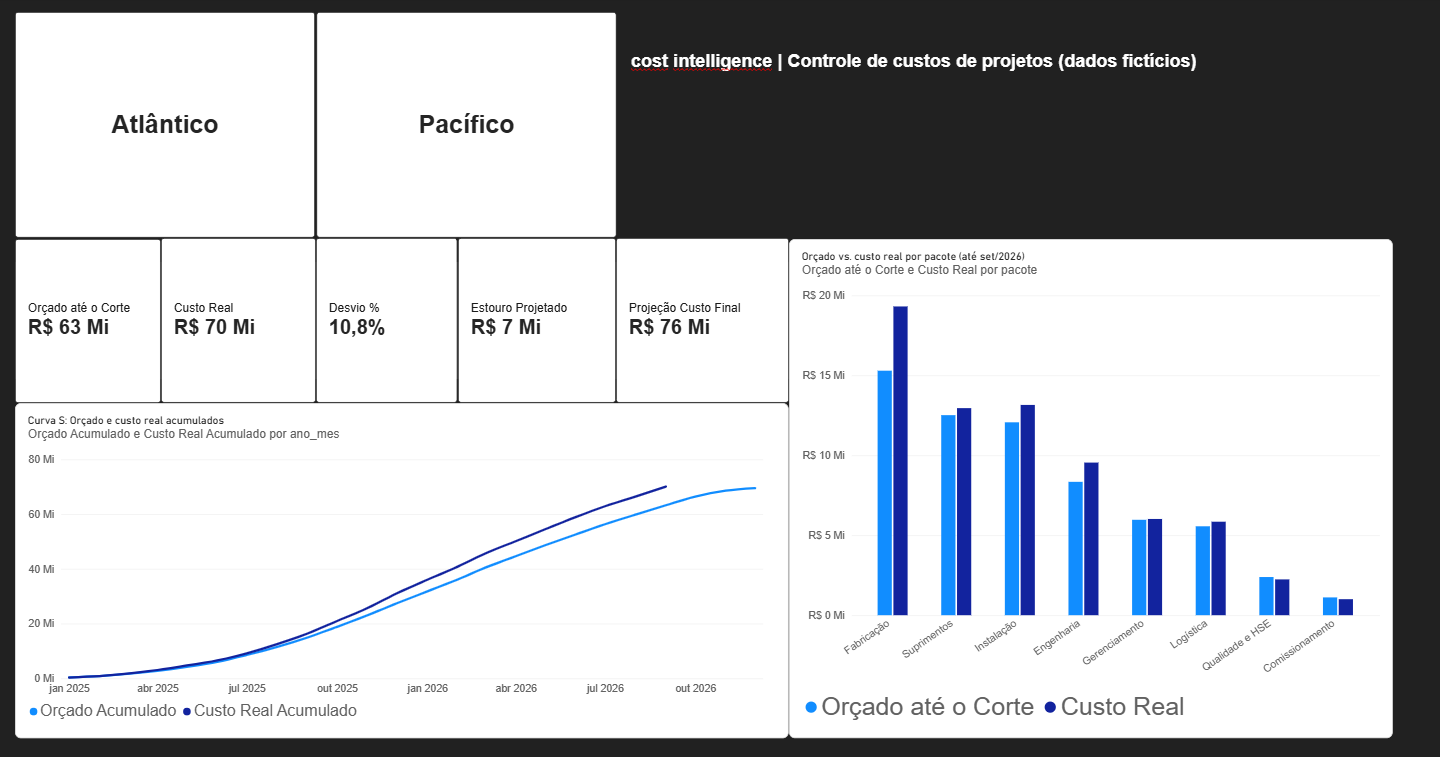

The page's visual inventory and layout, read from the dashboard file:
{"tool":"powerbi","page":{"name":"Visão geral","canvas":[1920,1080],"ordinal":1},"visuals":[{"type":"advancedSlicerVisual","fields":{"Values":["dim_projetos.projeto"]},"box":[20,20,800,300],"z":0},{"type":"cardVisual","fields":{"Data":["_Medidas.Orçado até o Corte"]},"box":[20,321.9,194.2,218.1],"z":1000},{"type":"cardVisual","fields":{"Data":["_Medidas.Custo Real"]},"box":[214.1,320.5,206.2,219.5],"z":2000},{"type":"cardVisual","fields":{"Data":["_Medidas.Desvio %"]},"box":[420.3,320.5,188.9,219.5],"z":3000},{"type":"cardVisual","fields":{"Data":["_Medidas.Projeção Custo Final"]},"box":[819.3,320.5,230.1,219.5],"z":4000},{"type":"cardVisual","fields":{"Data":["_Medidas.Estouro Projetado"]},"box":[609.2,320.5,210.1,219.5],"z":5000},{"type":"clusteredColumnChart","title":"Orçado vs. custo real por pacote (até set/2026)","fields":{"Category":["dim_pacotes.pacote"],"Y":["_Medidas.Orçado até o Corte","_Medidas.Custo Real"]},"box":[1049.4,321.9,803.3,663.7],"z":6000},{"type":"lineChart","title":"Curva S: Orçado e custo real acumulados","fields":{"Category":["dim_calendario.ano_mes"],"Y":["_Medidas.Orçado Acumulado","_Medidas.Custo Real Acumulado"]},"box":[20,540,1029.5,445.6],"z":7000},{"type":"textbox","box":[839.3,20,1012.2,150.3],"z":7001}]}

Visuals, with their boxes on the page's 1920x1080 design canvas (x1, y1, x2, y2). These are canvas units, not pixel positions in the 1440x757 screenshot, which may show the page scaled, cropped or inside an application window:
advancedSlicerVisual - dim_projetos.projeto: locate(20, 20, 820, 320)
cardVisual - _Medidas.Orçado até o Corte: locate(20, 322, 214, 540)
cardVisual - _Medidas.Custo Real: locate(214, 320, 420, 540)
cardVisual - _Medidas.Desvio %: locate(420, 320, 609, 540)
cardVisual - _Medidas.Projeção Custo Final: locate(819, 320, 1049, 540)
cardVisual - _Medidas.Estouro Projetado: locate(609, 320, 819, 540)
"Orçado vs. custo real por pacote (até set/2026)" clusteredColumnChart: locate(1049, 322, 1853, 986)
"Curva S: Orçado e custo real acumulados" lineChart: locate(20, 540, 1050, 986)
textbox: locate(839, 20, 1852, 170)
